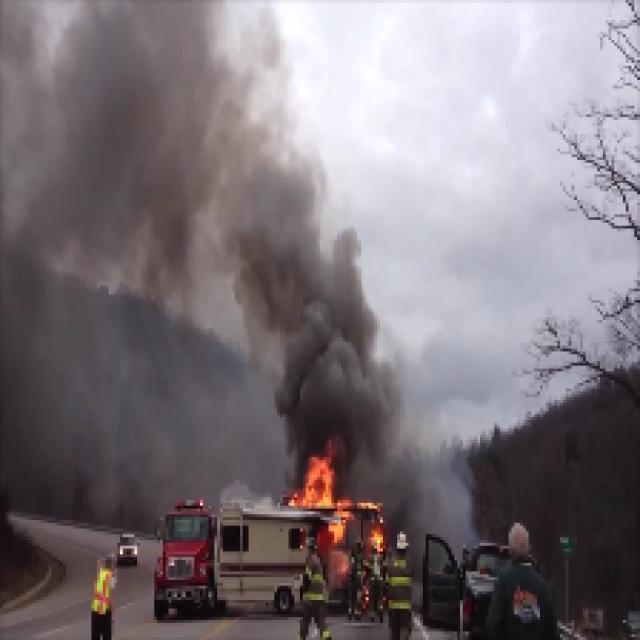Fire: (292, 458, 340, 514)
Smoke: (3, 2, 319, 300), (256, 303, 396, 448)
